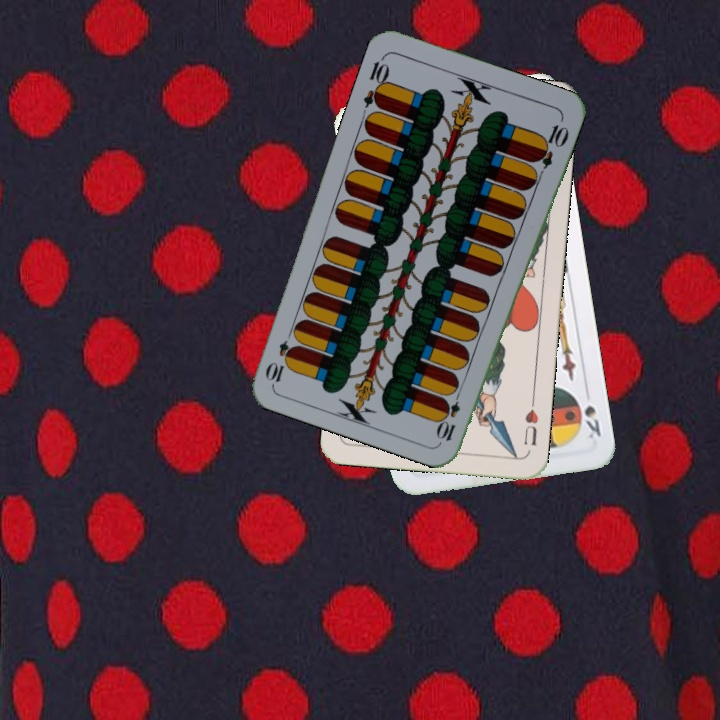E10: (359, 52, 392, 111), (435, 385, 464, 444)
HU: (519, 405, 541, 449)
SK: (580, 384, 604, 441)
